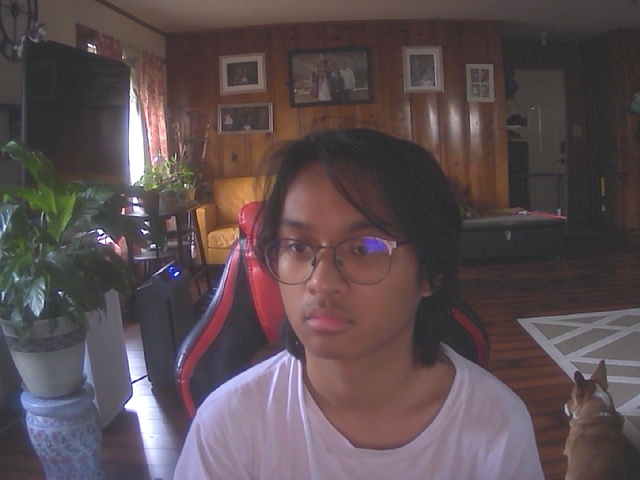neutral: (258, 121, 447, 363)
